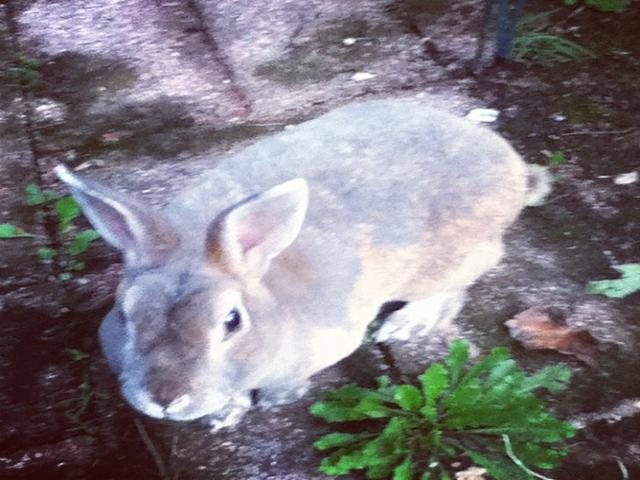rabbit: (58, 89, 592, 410)
